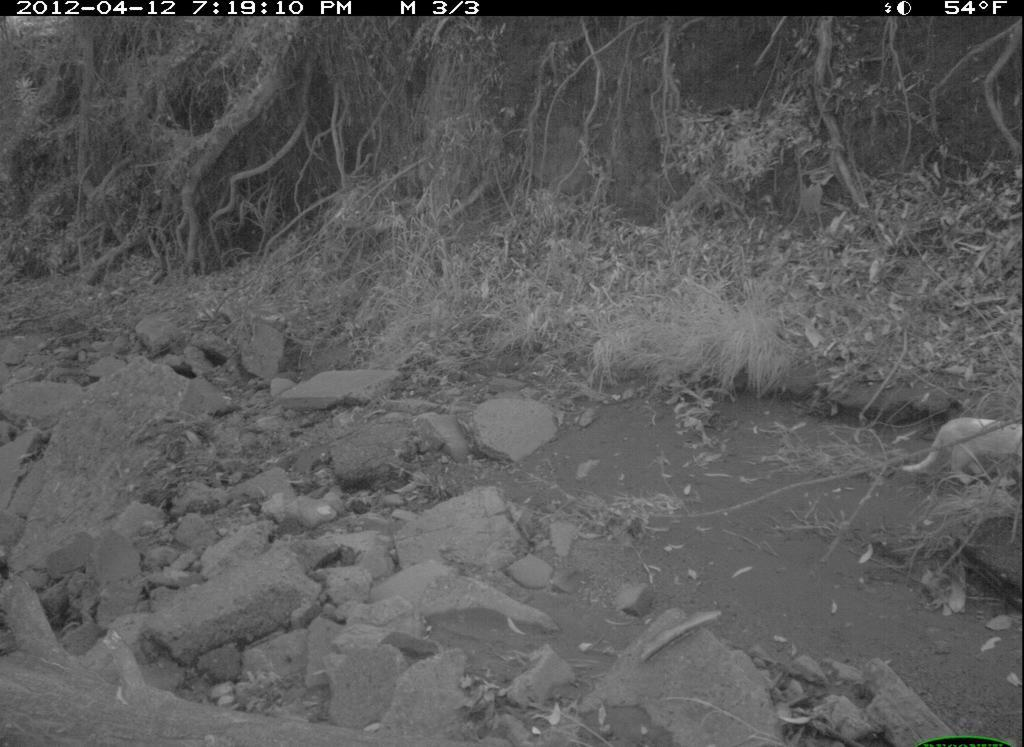cat: (894, 410, 1022, 501)
